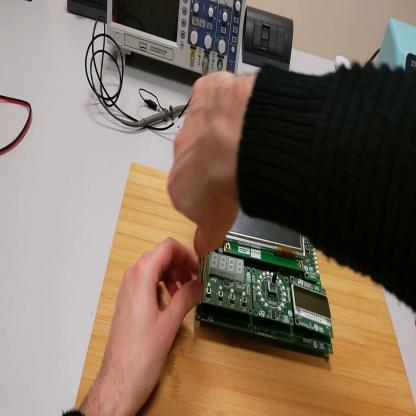hand: (95, 238, 206, 412), (168, 69, 256, 257)
low voltage board: (195, 208, 334, 362)
oscilloscope: (108, 3, 246, 81)
screwdriver-: (198, 256, 209, 317)
socket: (69, 3, 109, 28)
welder station: (376, 21, 416, 70)
working area: (74, 161, 416, 416)
